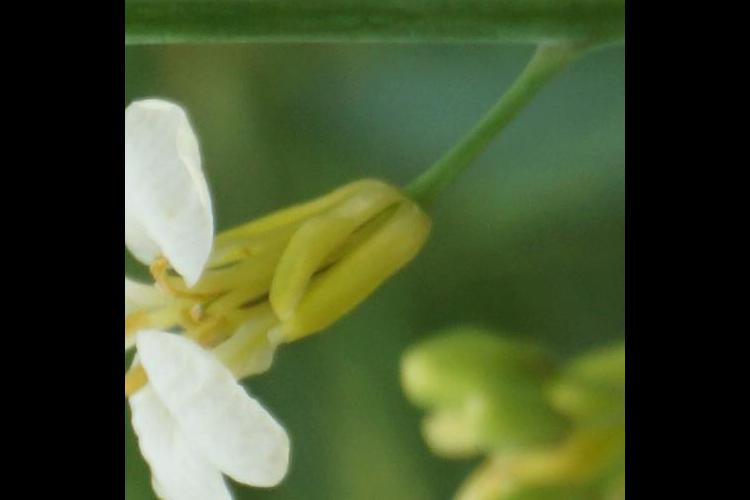white: (131, 98, 406, 500)
